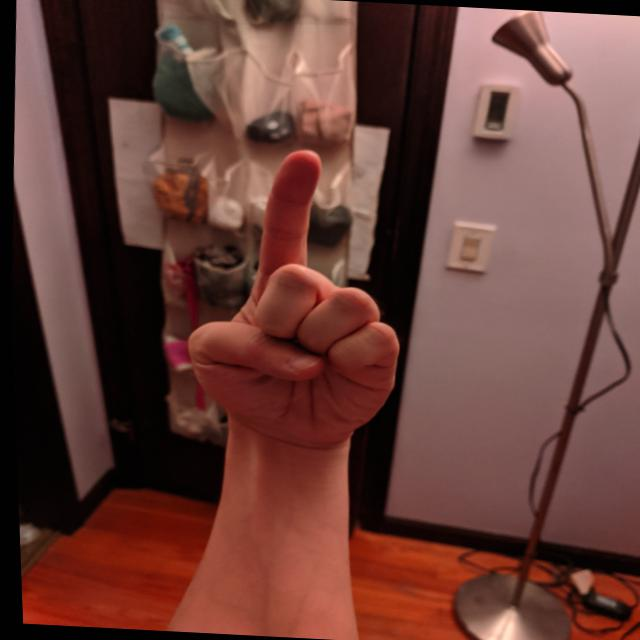D: (166, 139, 417, 459)
